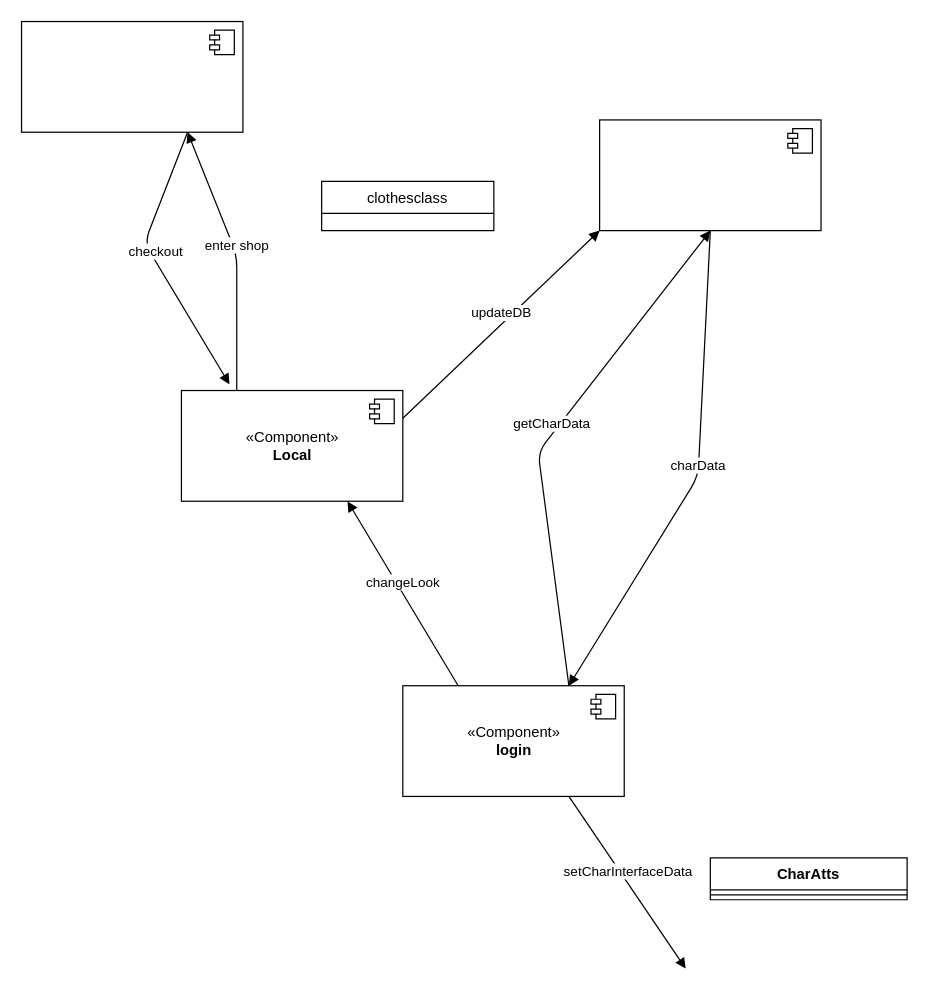
This 929x1000 diagram has some shape labels left out. Here are the shapes that lost their labels. From the top down, the box of each, then its label:
(20, 20, 243, 132): «Component» UI
(598, 119, 821, 231): «Component» Server_DB
